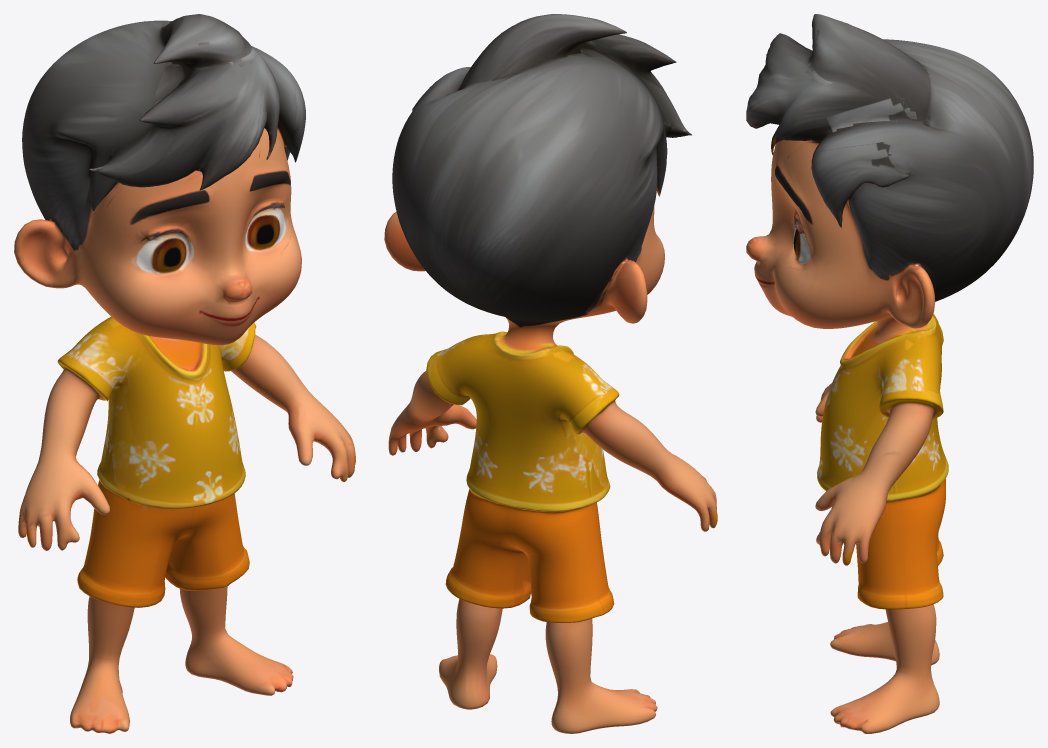
Rendered from character.glb.
3 views of the same model, side by side, from view 1: azimuth 30°, elevation 25°; view 2: azimuth 150°, elevation 25°; view 3: azimuth 270°, elevation 25° (orthographic). The views are drawn at different scales.
Parts seen in each view (by area): view 1: Object_2; view 2: Object_2; view 3: Object_2.
Part boxes in pixels (x1,y1,x2,y2): Object_2: [14, 14, 355, 733]; Object_2: [384, 14, 717, 733]; Object_2: [746, 14, 1033, 733].
Bounding box in the file's own units: 0.9493 × 1.9 × 0.7524.
Materials: 1 (1 with a texture image).
